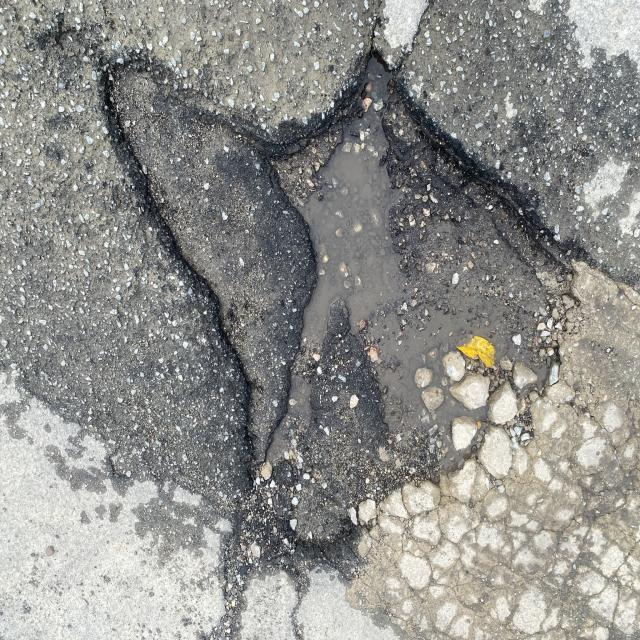Pothole: (88, 7, 640, 595)
